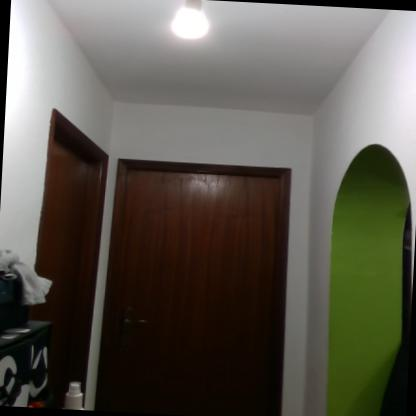closed: (90, 140, 313, 411), (28, 88, 116, 389)
